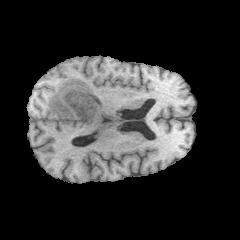glioma: (47, 77, 106, 135)
